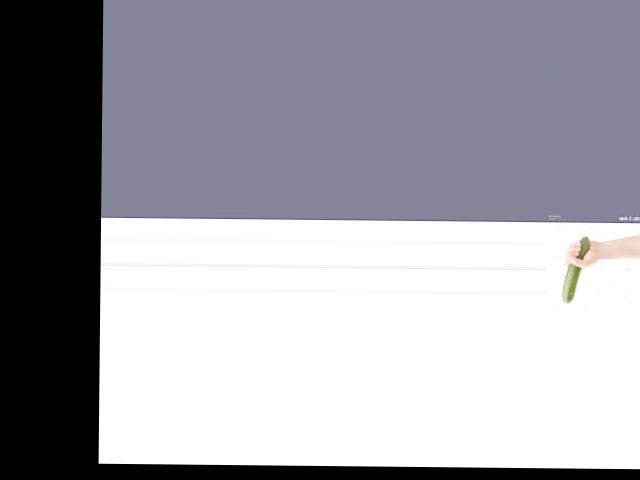cucumber: (561, 236, 588, 302)
